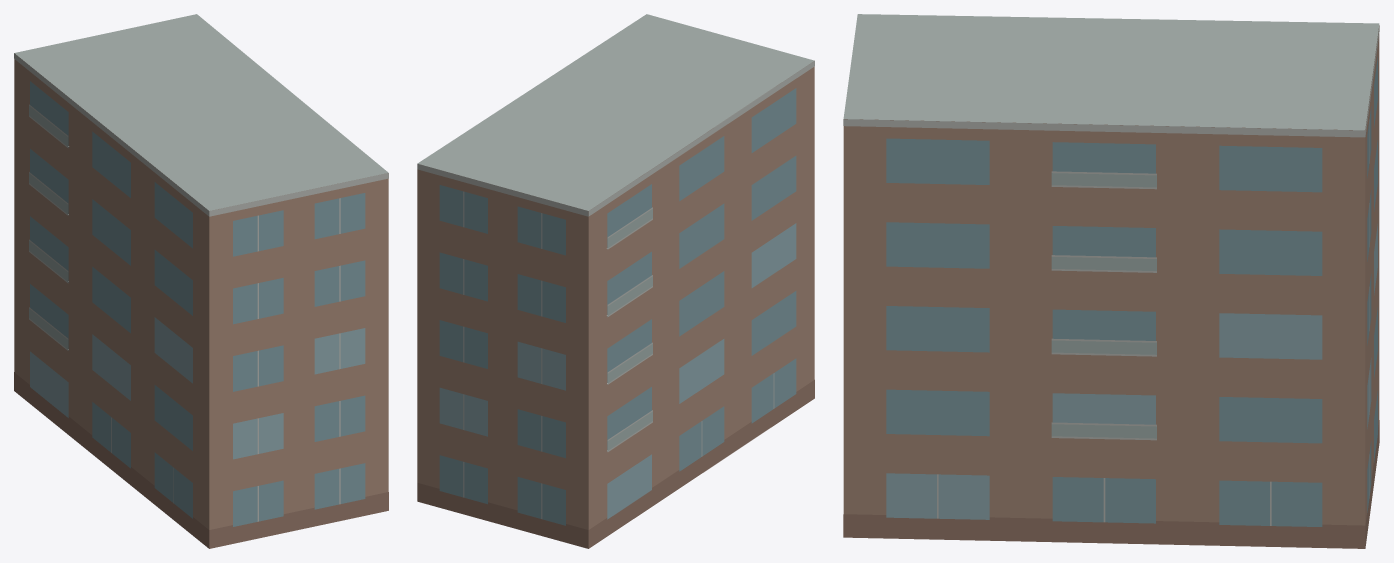
Rendered from survey-upis-32841472.glb.
The picture shows the model from 3 angles, left to right: view 1: azimuth 30°, elevation 25°; view 2: azimuth 150°, elevation 25°; view 3: azimuth 270°, elevation 25°; orthographic projection. The views are drawn at different scales.
Visible parts, largest first — view 1: survey-upis-32841472.tmp; view 2: survey-upis-32841472.tmp; view 3: survey-upis-32841472.tmp.
Boxes of the visible parts, <box> form: survey-upis-32841472.tmp: <box>14,14,388,548</box>; survey-upis-32841472.tmp: <box>417,14,814,548</box>; survey-upis-32841472.tmp: <box>843,14,1379,548</box>.
Bounding box in the file's own units: 8.6 × 14.4 × 16.73.
